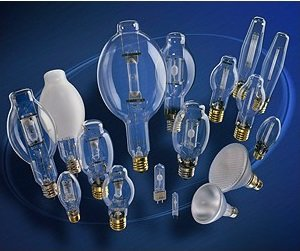Light_bulb: (95, 18, 170, 176), (5, 87, 60, 200), (40, 70, 88, 172), (156, 28, 191, 132), (171, 97, 212, 183), (208, 140, 265, 198), (233, 15, 267, 104), (80, 120, 114, 206), (103, 162, 138, 235), (189, 180, 240, 229), (205, 53, 239, 124), (233, 72, 265, 143), (52, 167, 82, 225), (251, 116, 284, 163), (150, 162, 167, 206), (168, 188, 184, 220)
